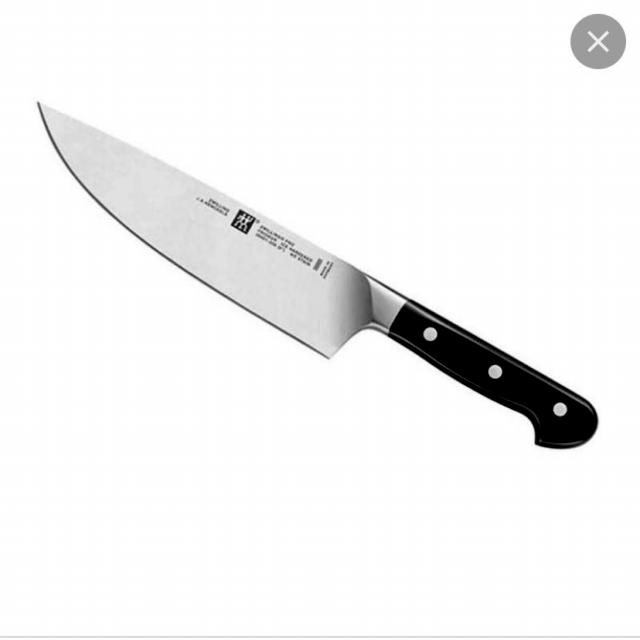knife: (28, 84, 601, 453)
